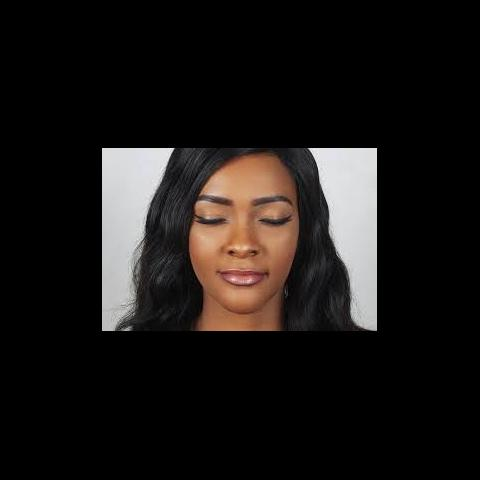closed: (189, 190, 297, 235)
